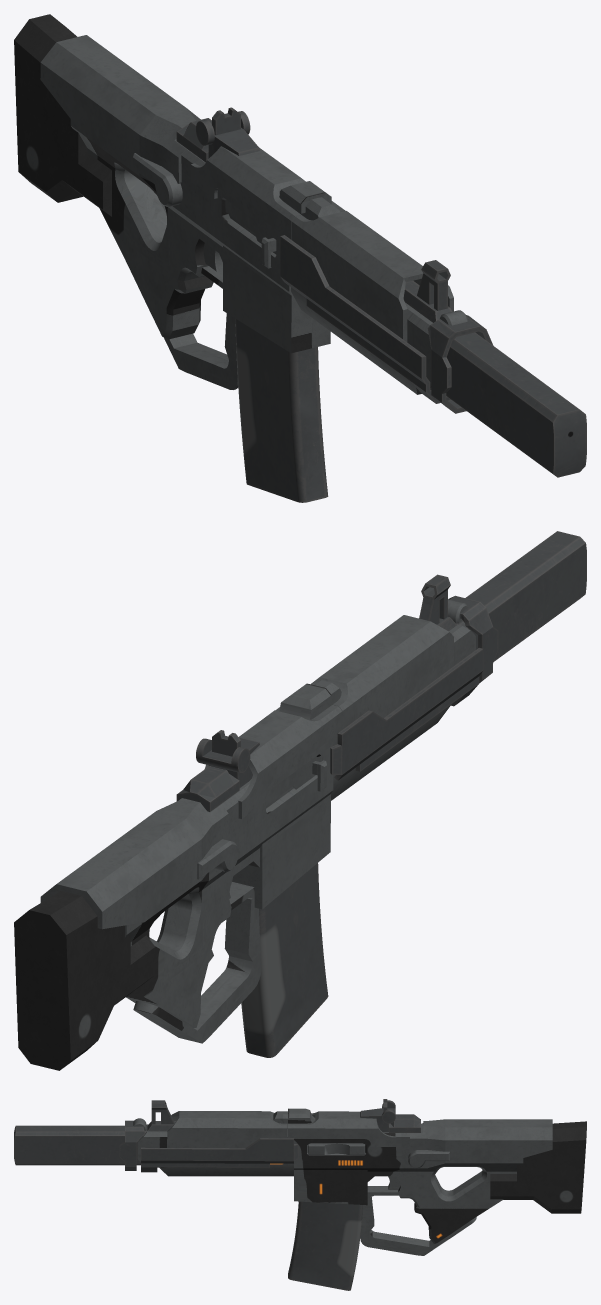
The picture shows the model from 3 angles, top to bottom: view 1: azimuth 30°, elevation 25°; view 2: azimuth 150°, elevation 25°; view 3: azimuth 270°, elevation 25°; orthographic projection. The views are drawn at different scales.
Parts seen in each view (by area): view 1: body_lo, add1_lo, plate_lo, clip_lo, silencer_lo, stock_lo, add2_lo, hold_lo, reflex_lo, fromt_lo, hip_lo, charge_lo; view 2: body_lo, stock_lo, add1_lo, plate_lo, clip_lo, silencer_lo, add2_lo, hold_lo, reflex_lo, fromt_lo, hip_lo, charge_lo; view 3: body_lo, add1_lo, plate_lo, clip_lo, stock_lo, silencer_lo, add2_lo, fromt_lo, hold_lo, reflex_lo, charge_lo, hip_lo.
Part boxes in pixels (<box>): body_lo: <box>70,119,339,353</box>; add1_lo: <box>190,146,453,341</box>; plate_lo: <box>40,35,200,206</box>; clip_lo: <box>235,318,328,502</box>; silencer_lo: <box>446,332,586,477</box>; stock_lo: <box>14,14,111,216</box>; add2_lo: <box>280,235,493,413</box>; hold_lo: <box>164,313,238,389</box>; reflex_lo: <box>176,107,259,162</box>; fromt_lo: <box>291,287,432,394</box>; hip_lo: <box>403,260,452,322</box>; charge_lo: <box>225,200,276,268</box>; body_lo: <box>125,680,341,1027</box>; stock_lo: <box>14,891,155,1070</box>; add1_lo: <box>204,615,453,818</box>; plate_lo: <box>40,798,238,929</box>; clip_lo: <box>241,863,328,1057</box>; silencer_lo: <box>456,531,586,661</box>; add2_lo: <box>330,595,498,780</box>; hold_lo: <box>133,897,261,1043</box>; reflex_lo: <box>176,730,259,811</box>; fromt_lo: <box>331,624,475,800</box>; hip_lo: <box>419,574,456,631</box>; charge_lo: <box>266,756,326,808</box>; body_lo: <box>273,1108,523,1243</box>; add1_lo: <box>167,1111,396,1148</box>; plate_lo: <box>408,1119,552,1168</box>; clip_lo: <box>288,1201,362,1290</box>; stock_lo: <box>490,1121,586,1213</box>; silencer_lo: <box>14,1125,146,1165</box>; add2_lo: <box>119,1120,298,1172</box>; fromt_lo: <box>138,1124,293,1176</box>; hold_lo: <box>360,1197,476,1255</box>; reflex_lo: <box>360,1099,420,1132</box>; charge_lo: <box>308,1143,365,1154</box>; hip_lo: <box>147,1100,176,1131</box>.
Bounding box in the file's own units: 0.5316 × 2.52 × 7.01.
Materials: 3 (3 with a texture image).
